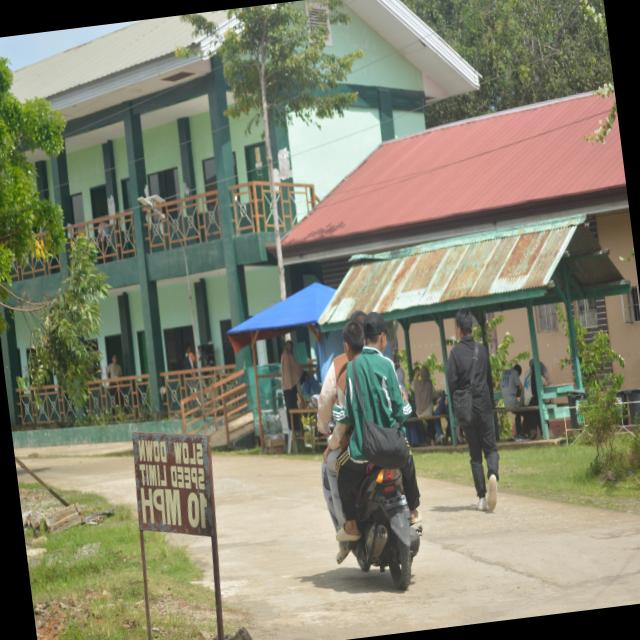person: (332, 313, 410, 541), (446, 309, 498, 510), (280, 341, 303, 432)
